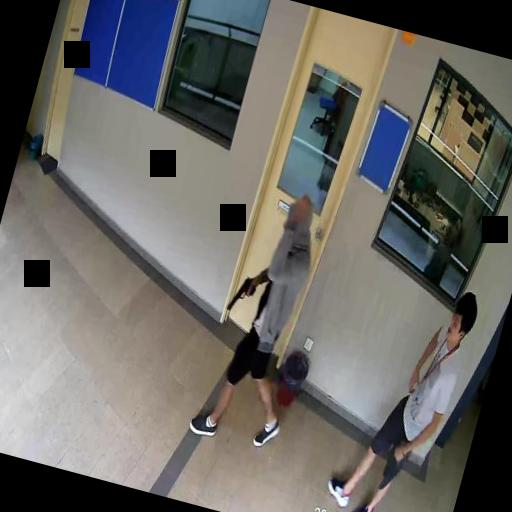Handgun: (226, 272, 256, 312)
